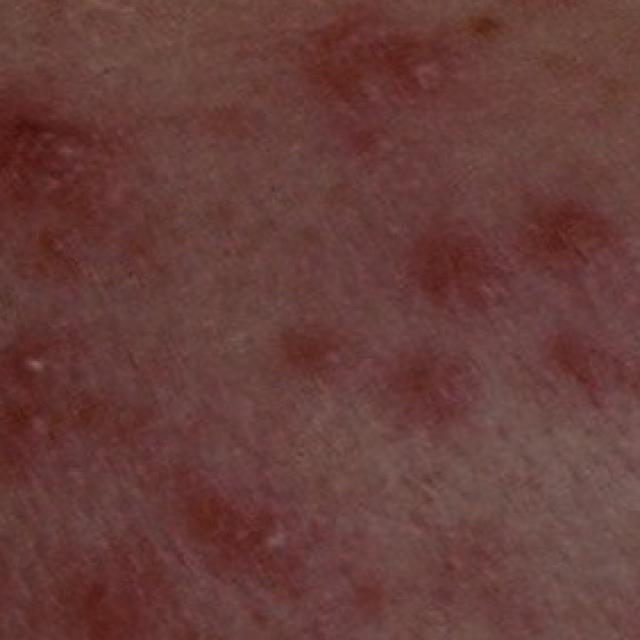acne: (266, 184, 640, 438), (0, 106, 198, 490), (0, 492, 347, 640), (284, 7, 504, 161)
